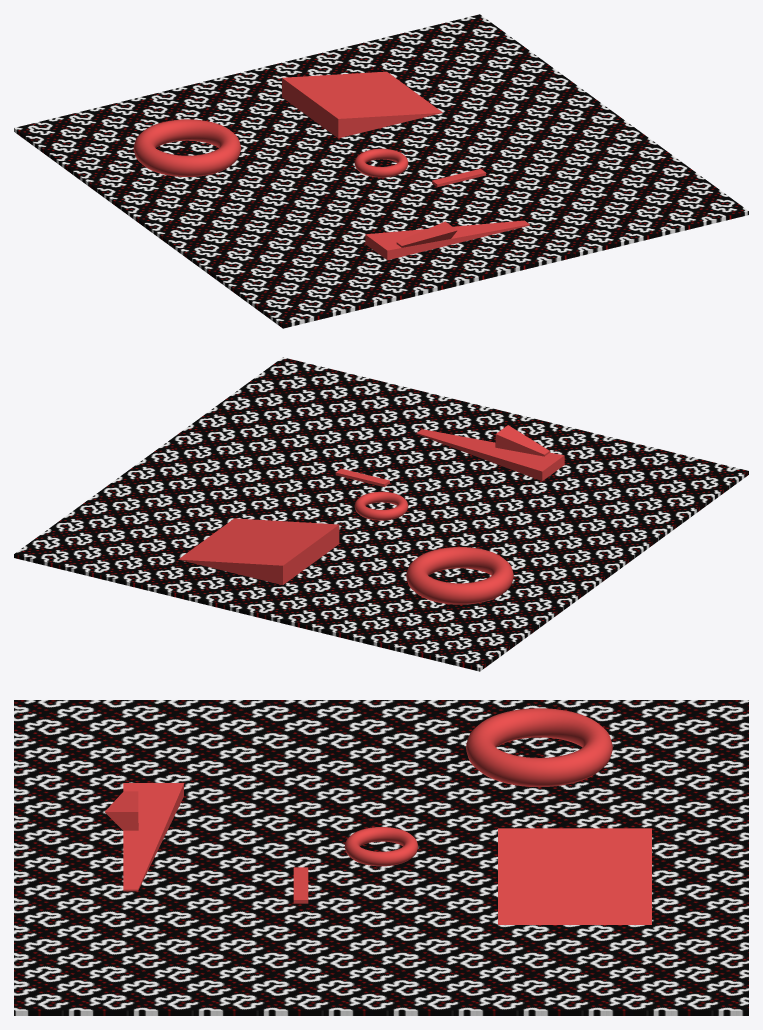
Rendered from sample_level.glb.
3 renders of one model, top to bottom at view 1: azimuth 30°, elevation 25°; view 2: azimuth 150°, elevation 25°; view 3: azimuth 270°, elevation 25°, orthographic. The views are drawn at different scales.
Parts seen in each view (by area): view 1: Ground, Cube.002, Torus.001, Cube, Torus, Cube.003; view 2: Ground, Cube.002, Torus.001, Cube, Torus, Cube.003; view 3: Ground, Cube.002, Torus.001, Cube, Torus, Cube.003, Cube.001.
Boxes of the visible parts, x1=… form: Ground: x1=14, y1=14, x2=748, y2=328; Cube.002: x1=282, y1=71, x2=442, y2=138; Torus.001: x1=133, y1=119, x2=240, y2=176; Cube: x1=365, y1=220, x2=529, y2=260; Torus: x1=354, y1=148, x2=408, y2=177; Cube.003: x1=396, y1=221, x2=457, y2=247; Ground: x1=14, y1=357, x2=748, y2=671; Cube.002: x1=178, y1=518, x2=339, y2=584; Torus.001: x1=406, y1=547, x2=513, y2=604; Cube: x1=416, y1=429, x2=564, y2=481; Torus: x1=354, y1=491, x2=408, y2=520; Cube.003: x1=495, y1=425, x2=549, y2=456; Ground: x1=14, y1=700, x2=748, y2=1015; Cube.002: x1=498, y1=828, x2=651, y2=924; Torus.001: x1=466, y1=708, x2=612, y2=787; Cube: x1=123, y1=783, x2=183, y2=891; Torus: x1=344, y1=827, x2=418, y2=866; Cube.003: x1=105, y1=791, x2=138, y2=830; Cube.001: x1=293, y1=867, x2=308, y2=903.
Size of what is drawn, in the model's own units: 50 by 2.65 by 50.
2 materials, 1 textured.
